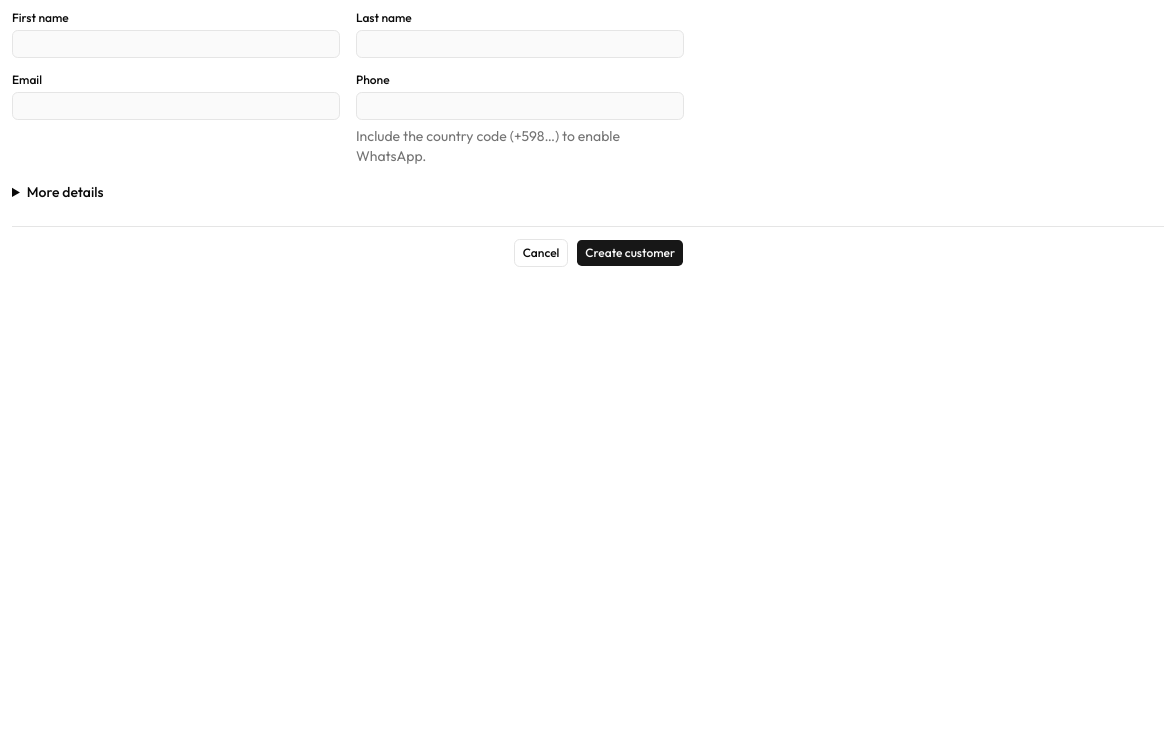
CustomerForm › opens More details when one of its fields has an error
In the field labelled "First name": (176, 44) [12,30,340,58], type "Ana"
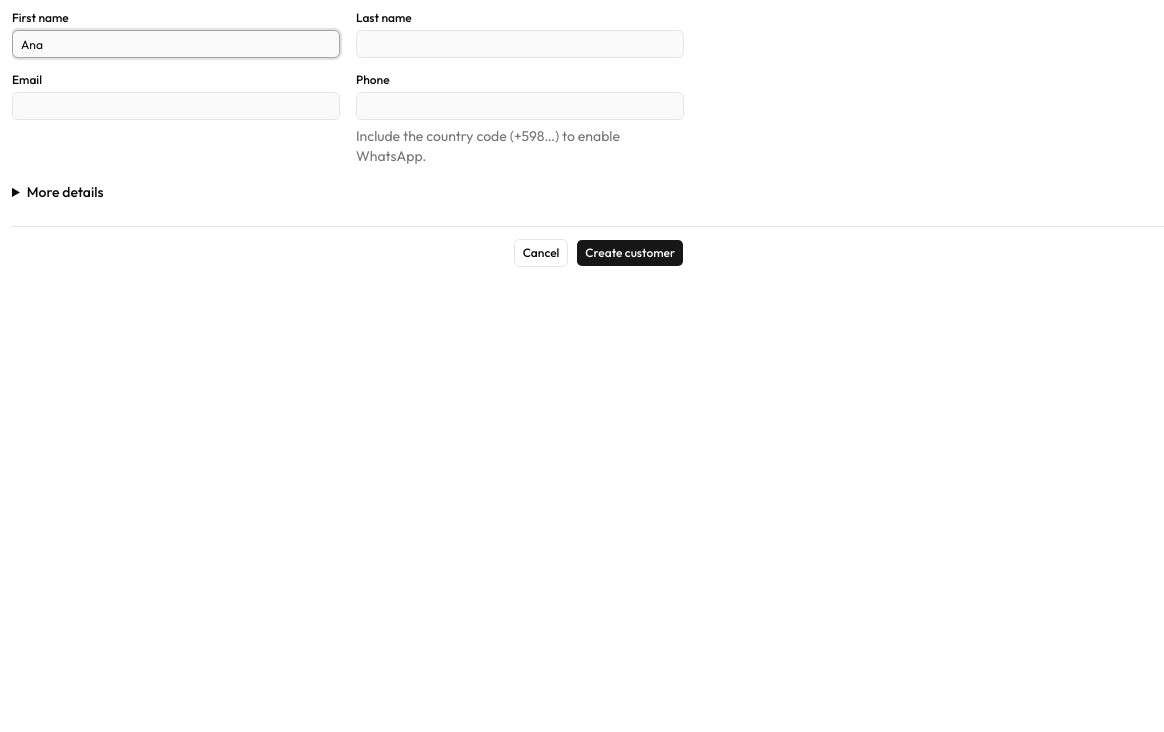
Click the button "Create customer": (630, 253) [576,239,684,267]
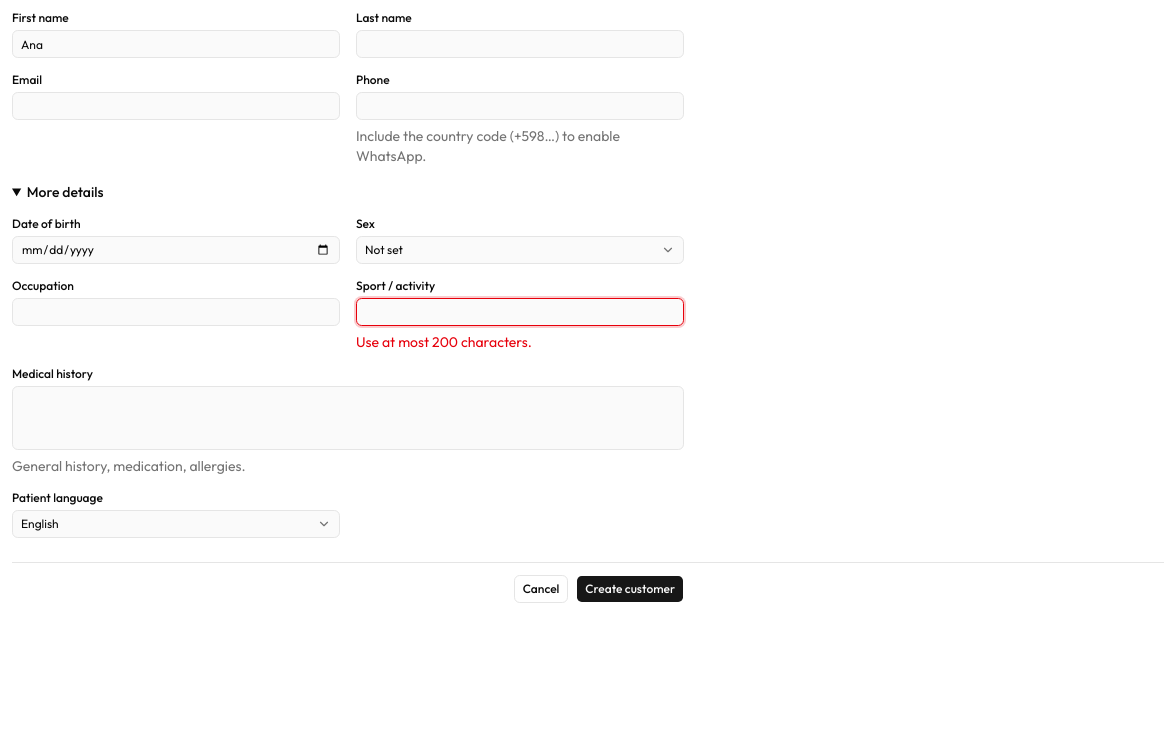
Expected: the text "Use at most 200 characters." is shown, [356,333,532,351]
